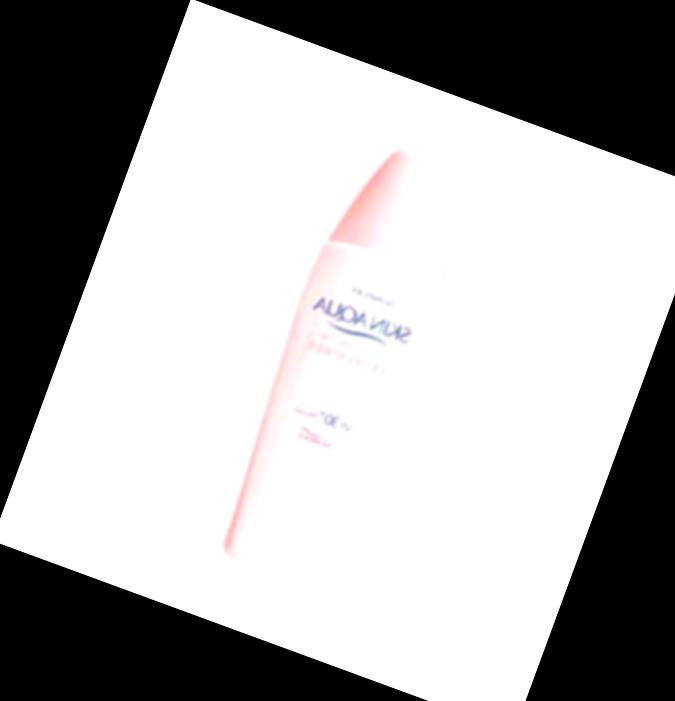cosmetic: (207, 131, 483, 599)
